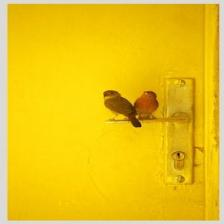yellow: (9, 4, 219, 221)
